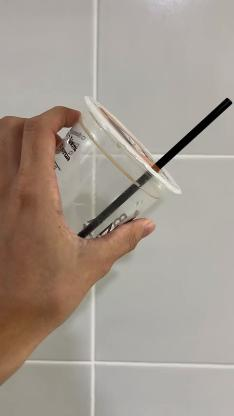Plastic Cup: (58, 96, 180, 240)
